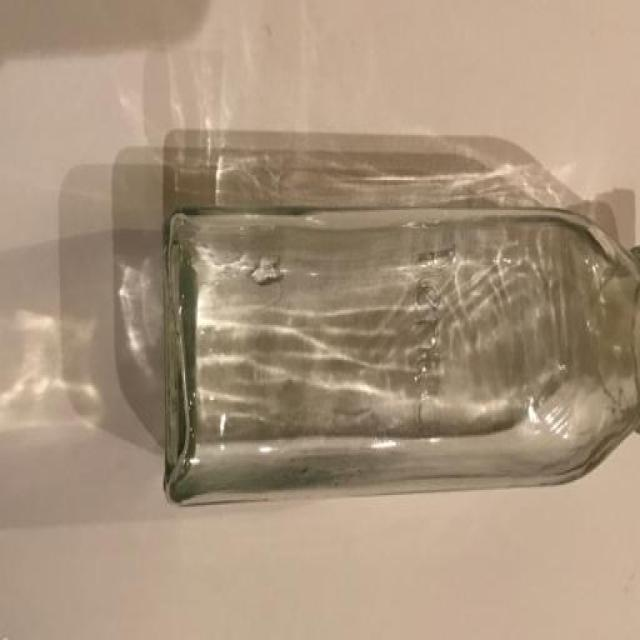glass: (165, 212, 640, 507)
